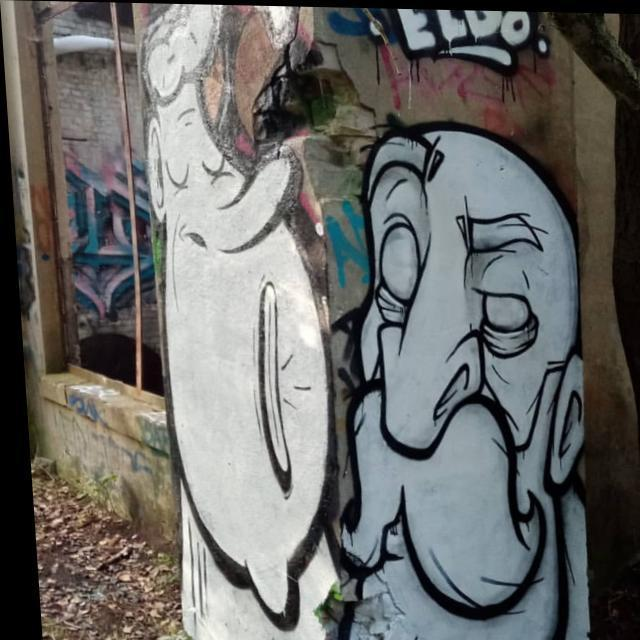-: (310, 108, 583, 640), (129, 2, 344, 640)
